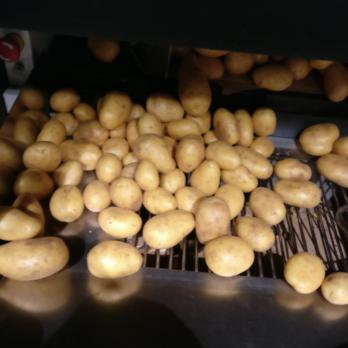Solid potato: (16, 88, 257, 281), (187, 44, 348, 98), (299, 118, 348, 187), (0, 238, 68, 281), (85, 237, 145, 283), (276, 155, 320, 208), (285, 251, 326, 296), (320, 272, 348, 308)
